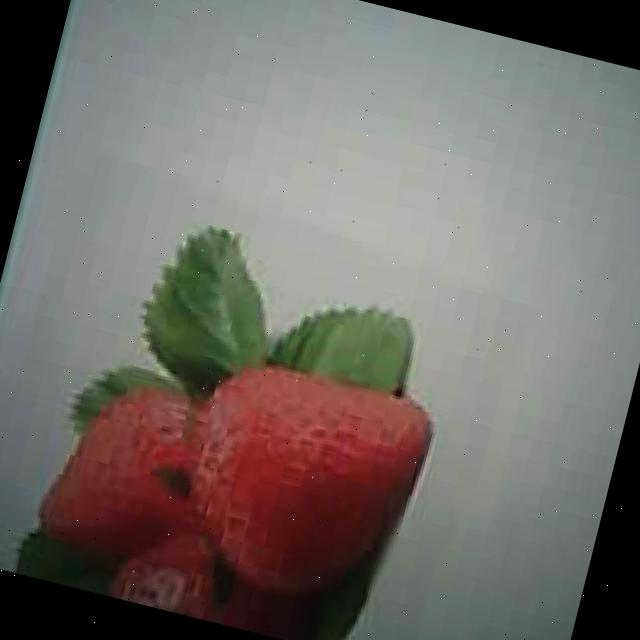strawberry: (163, 352, 435, 620)
